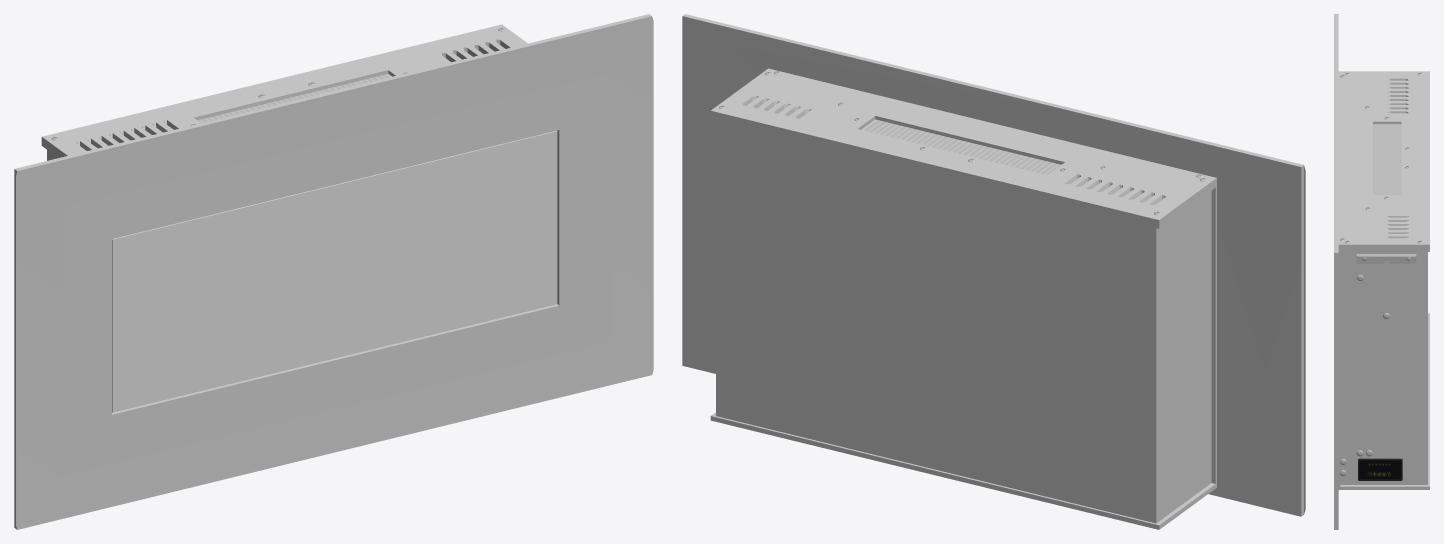
Rendered from Neptune.fbx.
3 views of the same model, side by side, from view 1: azimuth 30°, elevation 25°; view 2: azimuth 150°, elevation 25°; view 3: azimuth 270°, elevation 25° (orthographic). The views are drawn at different scales.
Parts seen in each view (by area): view 1: Cube.021; view 2: Cube.021; view 3: Cube.021.
Part boxes in pixels (x1,y1,x2,y2): Cube.021: (14,14,653,529); Cube.021: (682,14,1305,529); Cube.021: (1334,14,1429,529).
Bounding box in the file's own units: 191 × 103 × 32.27.
